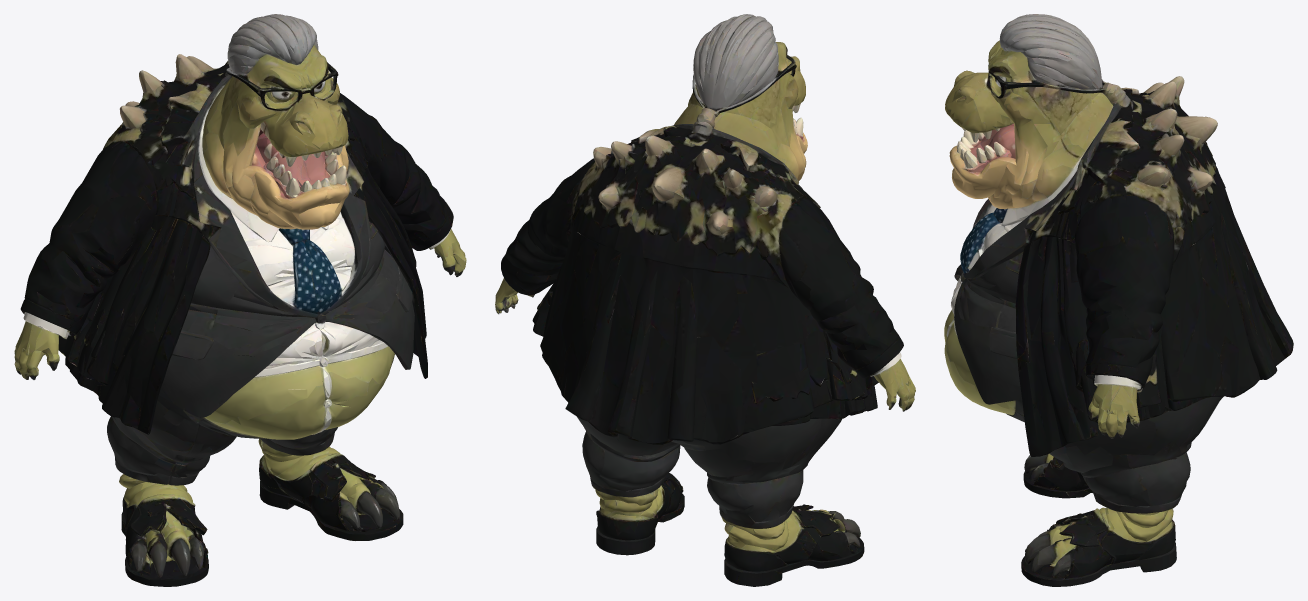
The model's file is trex.m.glb.
3 renders of one model, left to right at view 1: azimuth 30°, elevation 25°; view 2: azimuth 150°, elevation 25°; view 3: azimuth 270°, elevation 25°, orthographic. The views are drawn at different scales.
Visible parts, largest first — view 1: output_unwrapped; view 2: output_unwrapped; view 3: output_unwrapped.
Boxes of the visible parts, x1,y1,x2,y2 form: output_unwrapped: (14, 14, 466, 586); output_unwrapped: (495, 14, 915, 586); output_unwrapped: (944, 14, 1293, 586).
Bounding box in the file's own units: 1.65 × 1.9 × 1.19.
1 material, 1 textured.
